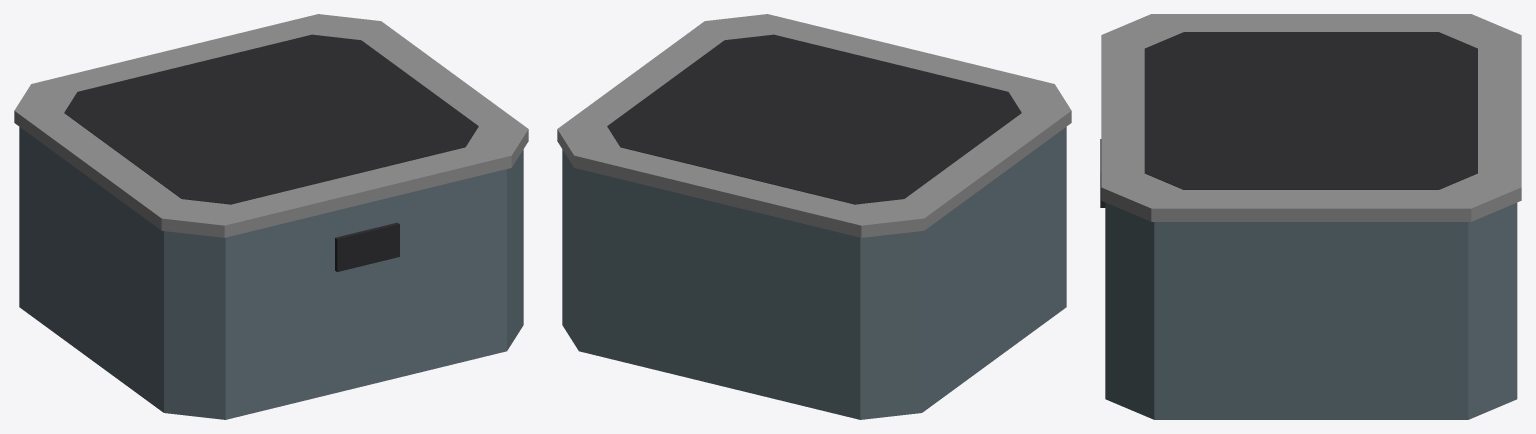
File: vge_spacer_box_gravlite_empty.obj
3 renders of one model, left to right at view 1: azimuth 30°, elevation 25°; view 2: azimuth 150°, elevation 25°; view 3: azimuth 270°, elevation 25°, orthographic. The views are drawn at different scales.
Visible parts, largest first — view 1: vge_spacer_box_gravlite_empty_0, vge_spacer_box_gravlite_empty_2, vge_spacer_box_gravlite_empty_1, vge_spacer_box_gravlite_empty_3; view 2: vge_spacer_box_gravlite_empty_0, vge_spacer_box_gravlite_empty_2, vge_spacer_box_gravlite_empty_1; view 3: vge_spacer_box_gravlite_empty_0, vge_spacer_box_gravlite_empty_2, vge_spacer_box_gravlite_empty_1.
Boxes of the visible parts, x1=… form: vge_spacer_box_gravlite_empty_0: x1=19, y1=127, x2=523, y2=419; vge_spacer_box_gravlite_empty_2: x1=64, y1=34, x2=478, y2=204; vge_spacer_box_gravlite_empty_1: x1=14, y1=14, x2=528, y2=237; vge_spacer_box_gravlite_empty_3: x1=335, y1=222, x2=399, y2=271; vge_spacer_box_gravlite_empty_0: x1=562, y1=127, x2=1066, y2=419; vge_spacer_box_gravlite_empty_2: x1=607, y1=34, x2=1021, y2=204; vge_spacer_box_gravlite_empty_1: x1=557, y1=14, x2=1071, y2=237; vge_spacer_box_gravlite_empty_0: x1=1105, y1=202, x2=1517, y2=419; vge_spacer_box_gravlite_empty_2: x1=1144, y1=32, x2=1477, y2=189; vge_spacer_box_gravlite_empty_1: x1=1101, y1=14, x2=1521, y2=221.
Size of the model in its own units: 0.9384 by 0.481 by 0.8584.
